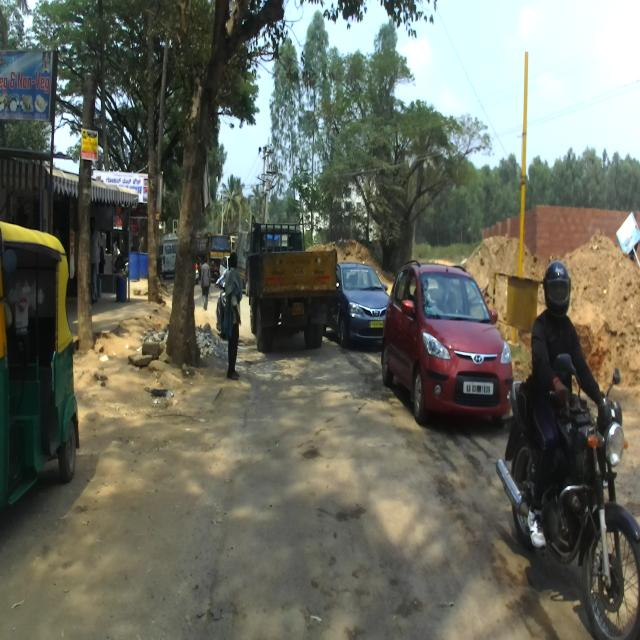auto ahead at: (0, 222, 80, 514)
car ahead at: (380, 249, 516, 435), (340, 259, 386, 348)
motorcycle ahead at: (499, 372, 640, 635)
person ahead at: (218, 244, 246, 388)
tree ahead at: (166, 4, 218, 367), (75, 68, 103, 360)
truck ahead at: (247, 218, 337, 356)
